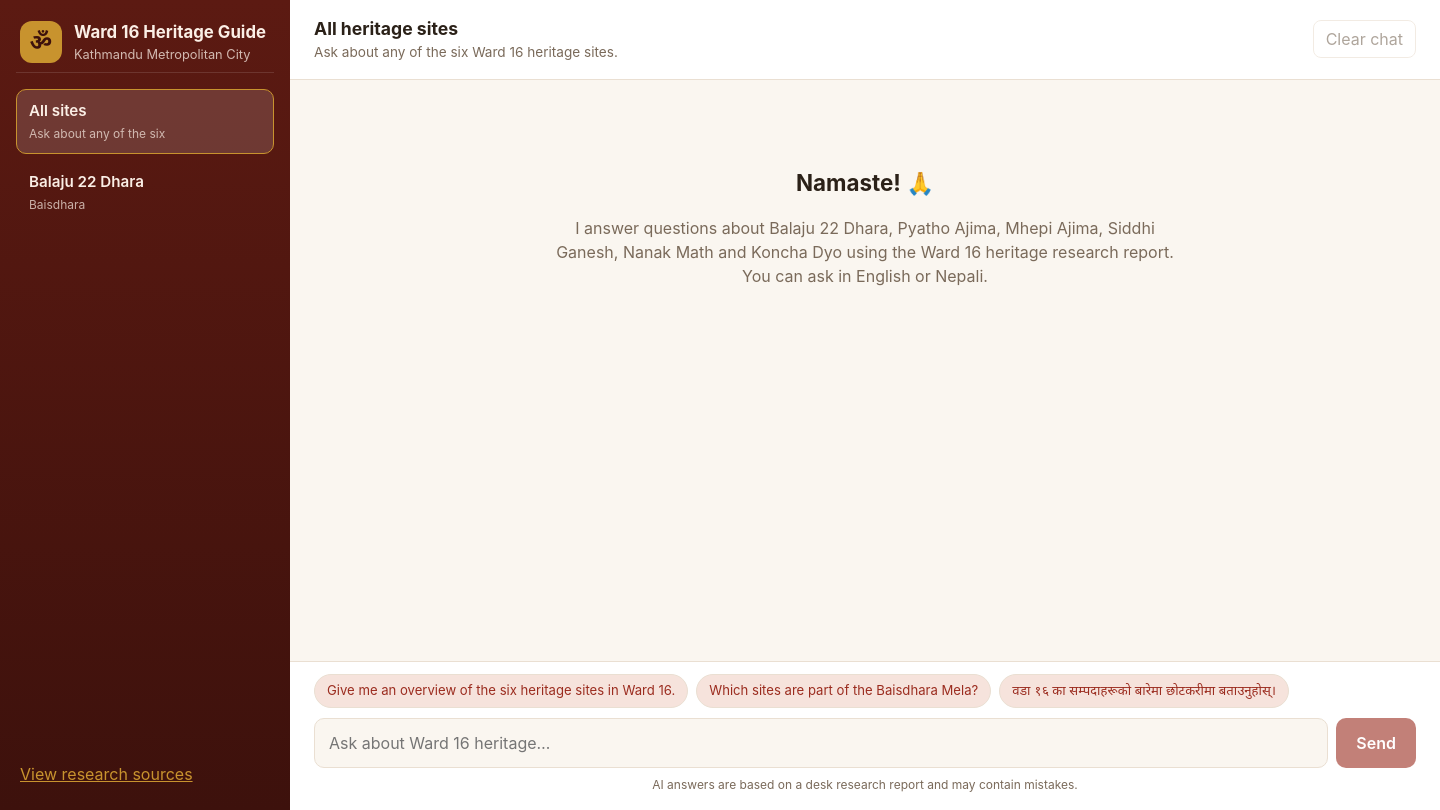
Test: App › lets the user pick a site and streams an answer with linked citations
Step 1. Click the button "Balaju 22 Dhara Baisdhara" → click(145, 193), box [16, 160, 274, 225]
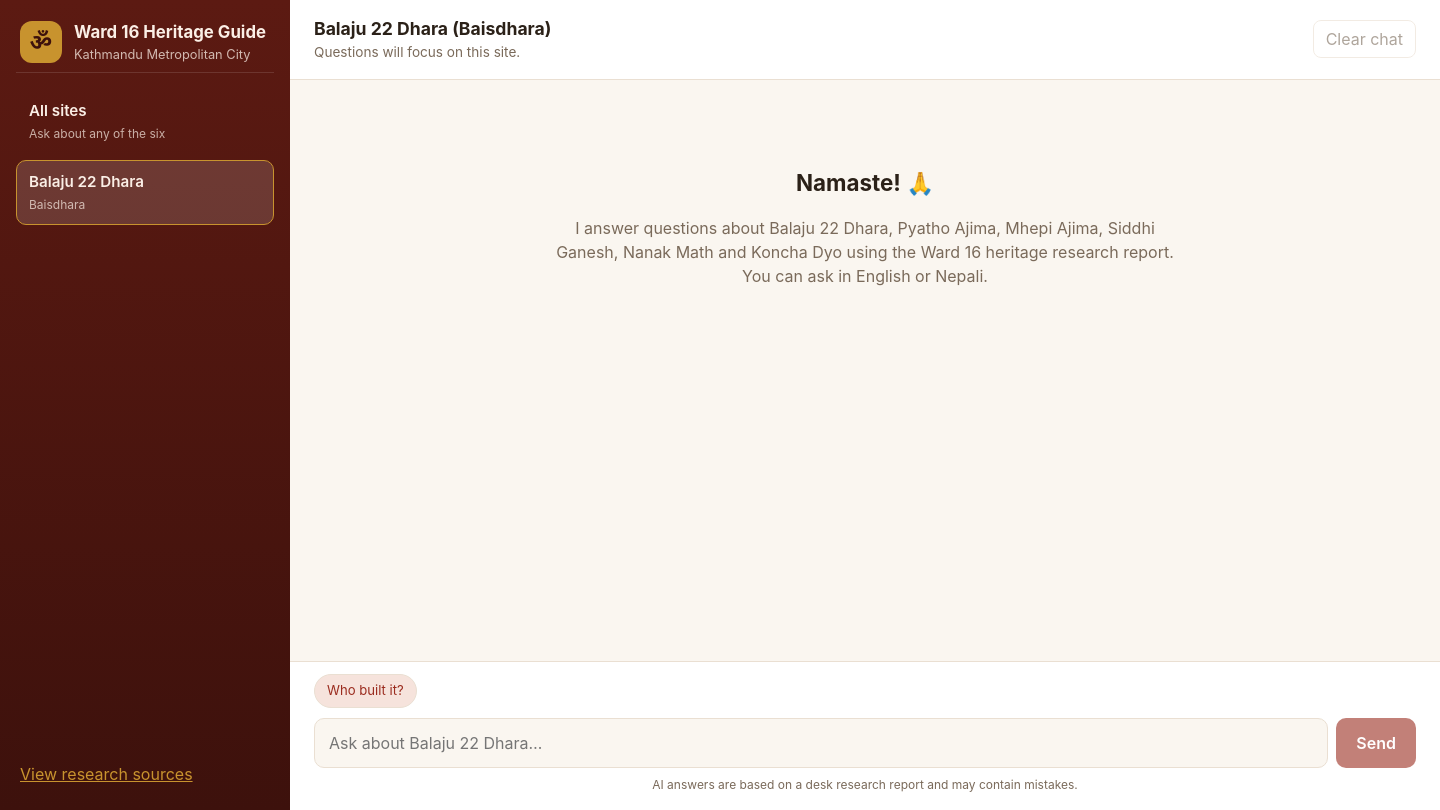
Step 2. Click the button "Who built it?" → click(365, 691), box [314, 674, 417, 708]
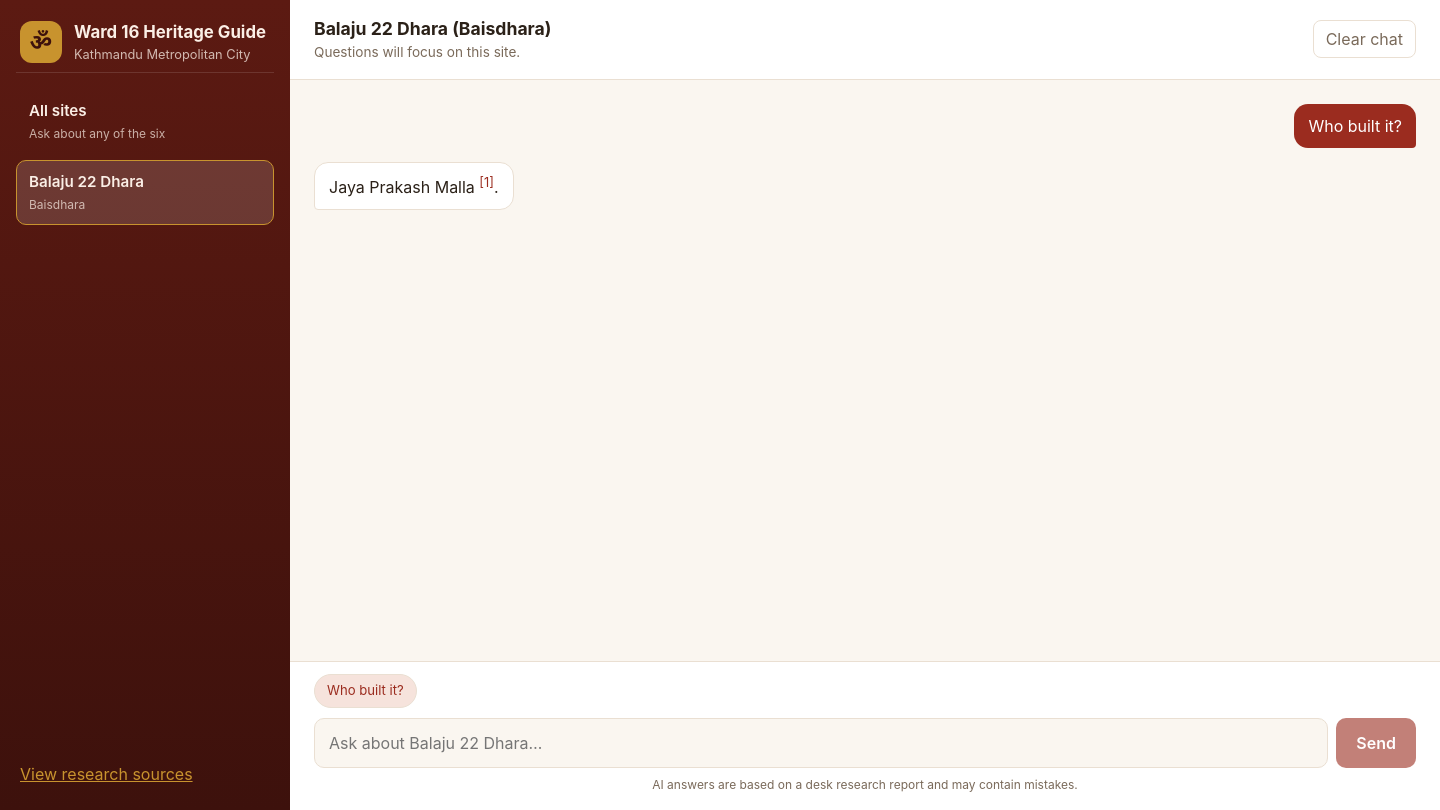
Expected: the button "Send" is shown, [1336, 718, 1416, 768]
Expected: the text "Jaya Prakash Malla [1] ." is shown, [329, 173, 498, 199]
